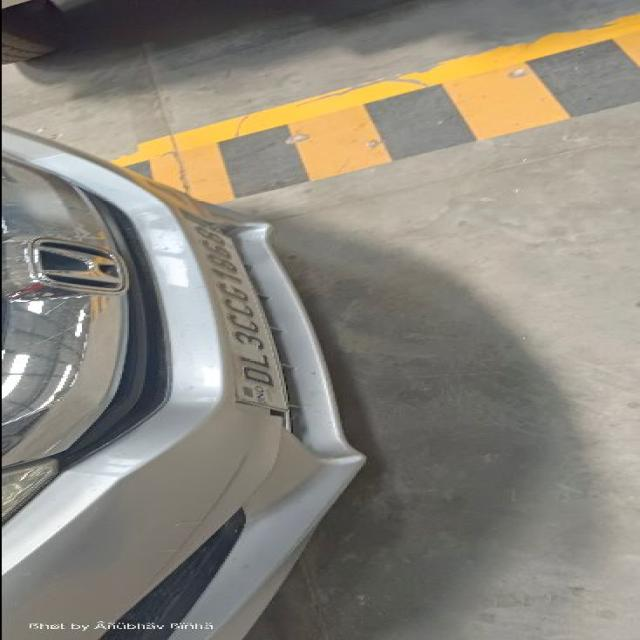license_plate: (2, 123, 368, 639), (176, 212, 291, 414)
